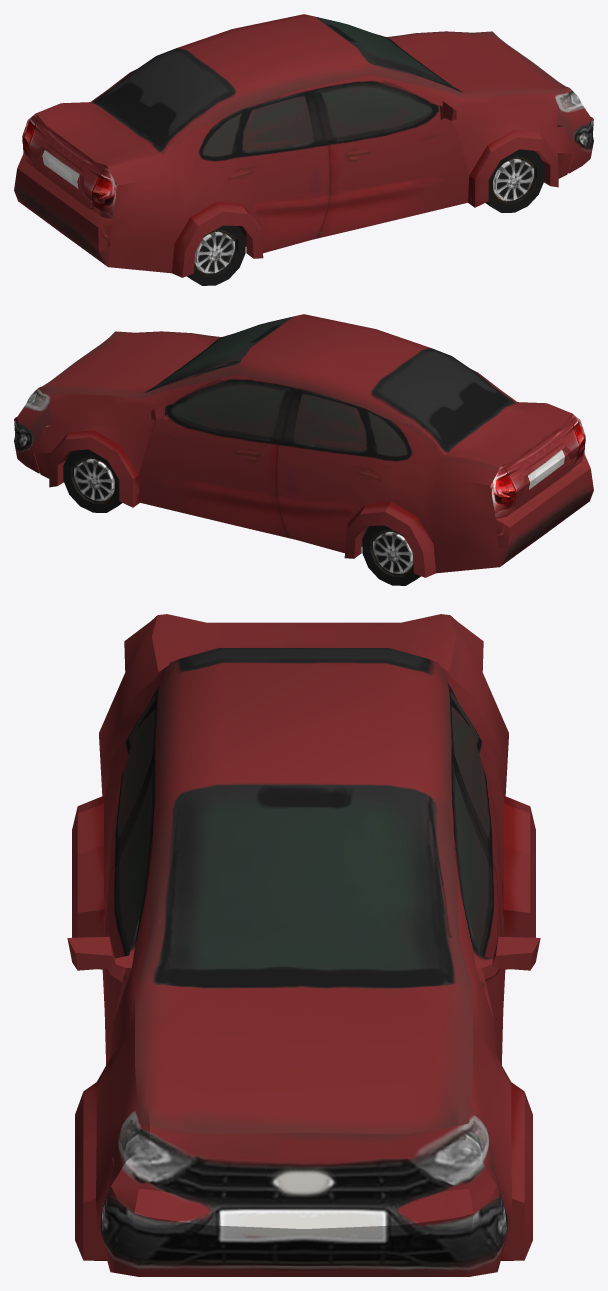
The model's file is лада гранта.fbx.
3 renders of one model, top to bottom at view 1: azimuth 30°, elevation 25°; view 2: azimuth 150°, elevation 25°; view 3: azimuth 270°, elevation 25°, orthographic. The views are drawn at different scales.
Parts seen in each view (by area): view 1: Plane; view 2: Plane; view 3: Plane.
Part boxes in pixels (x1=…): Plane: x1=14, y1=14, x2=593, y2=285; Plane: x1=14, y1=314, x2=593, y2=585; Plane: x1=67, y1=614, x2=540, y2=1276.
Size of the model in its own units: 453 by 154 by 187.
Materials: 2 (2 with a texture image).
